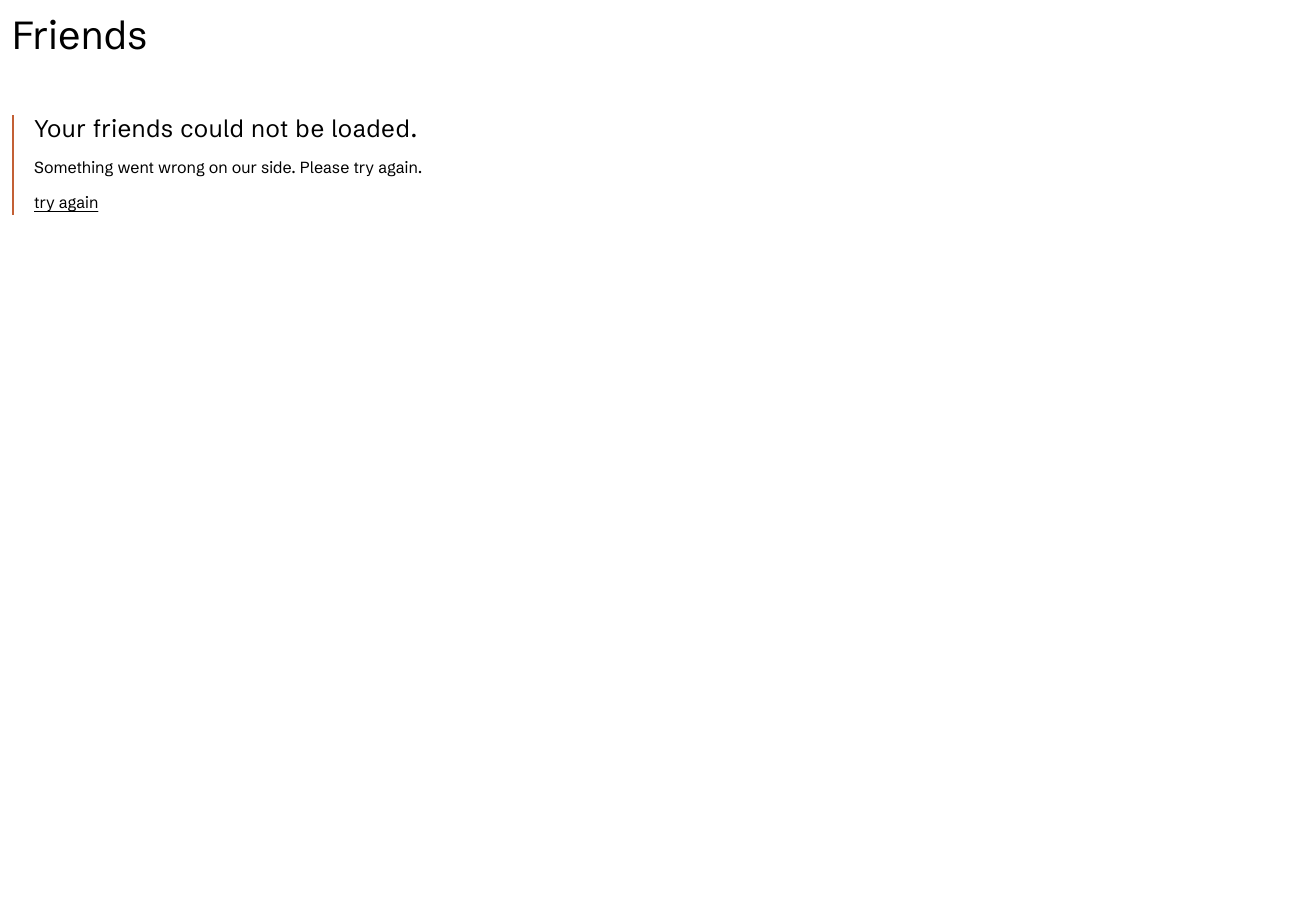
Test: FriendsPage lists (F-54, F-56, F-58, B-93, B-110) › F-105: a failed load explains itself and "try again" loads the lists
The width and height of the screenshot is (1304, 912).
Expected: the message is shown, [12,115,1292,215]
Expected: the message shows "Something went wrong on our side. Please try again.", [34,157,422,177]
Click the button "try again". click: point(66, 203)
box: [34,191,98,215]
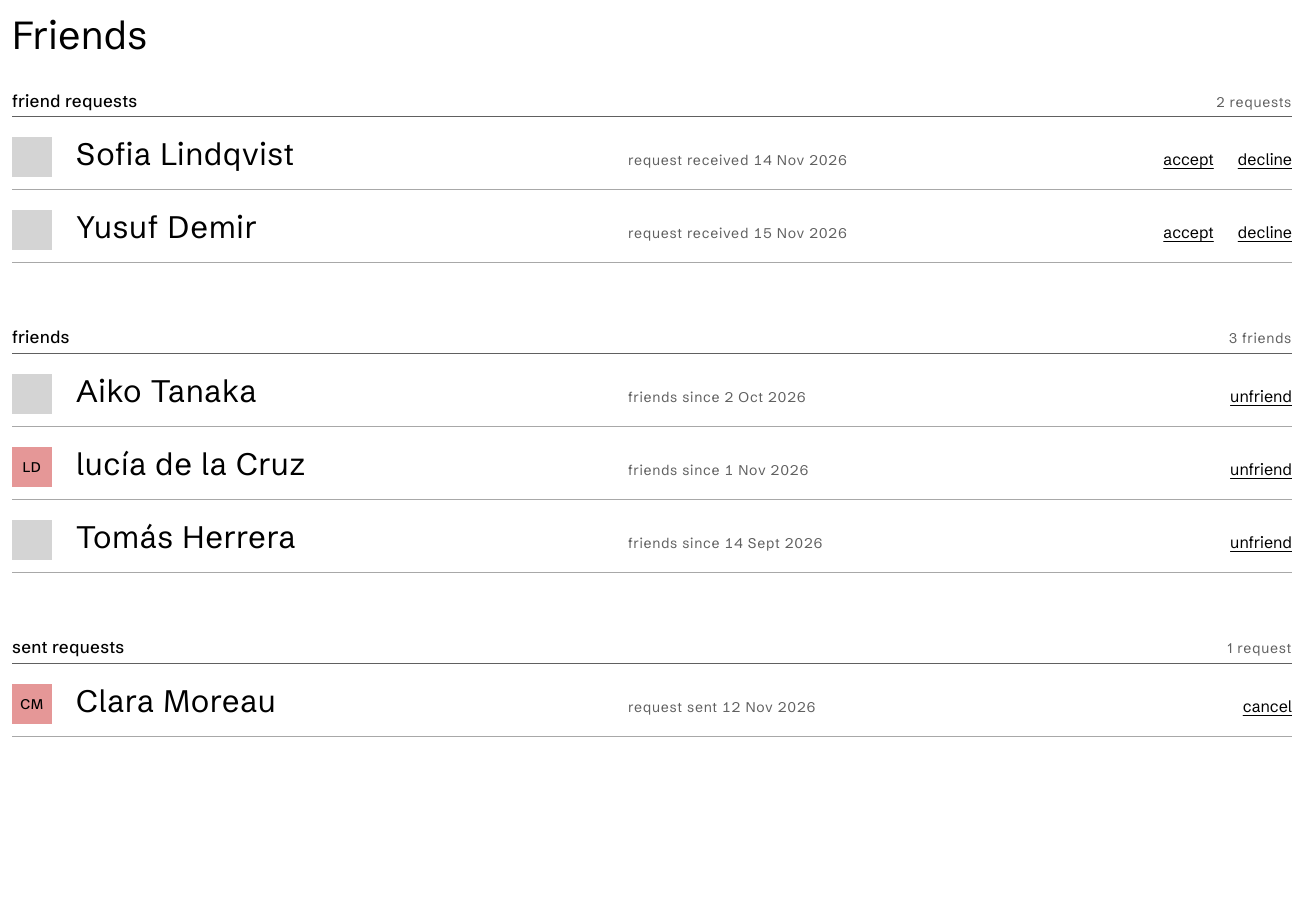
Result: the element "friends" is shown at [12,327,1292,573]
